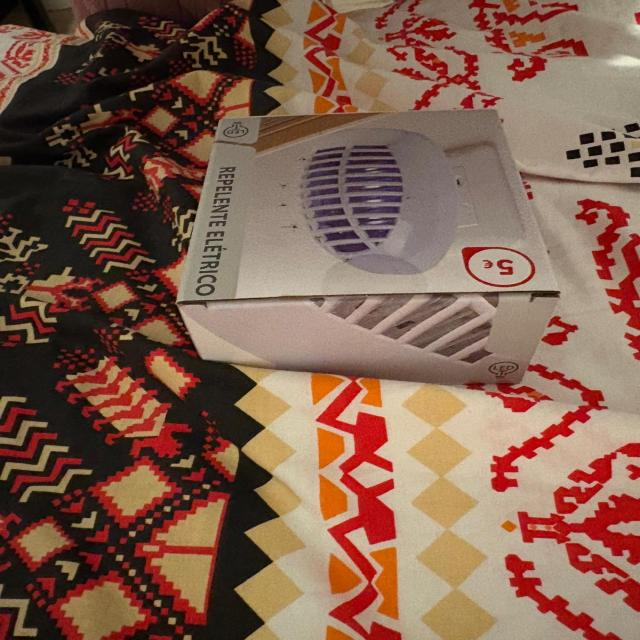good_package: (177, 110, 561, 386)
